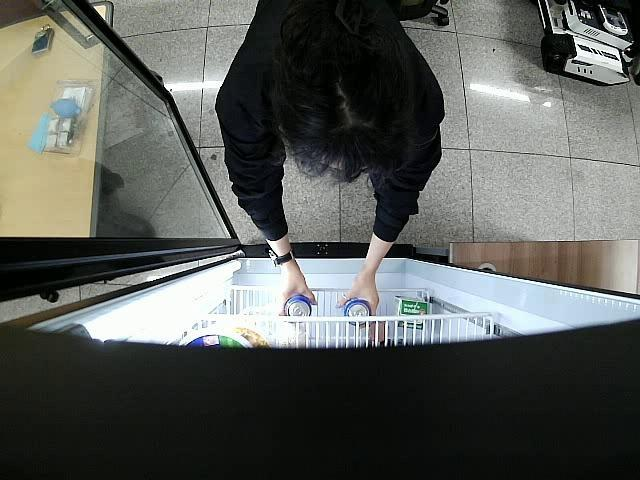13_pocariSweat: (344, 298, 372, 329), (282, 296, 311, 323)
